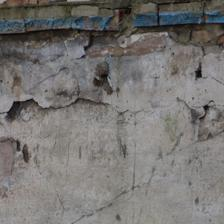Crack: (22, 75, 85, 149), (92, 10, 120, 58)
